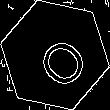O_NW: (22, 22, 88, 88)
